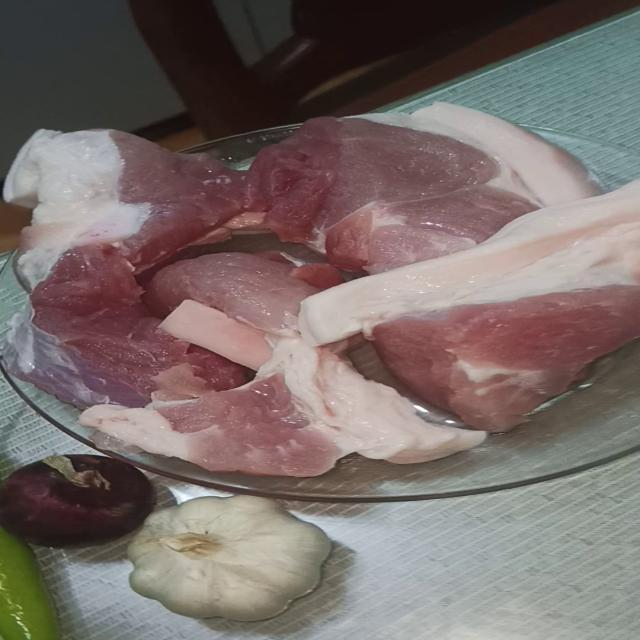chili_pepper: (0, 525, 59, 640)
garlic: (104, 488, 397, 622)
onion: (9, 453, 139, 560)
pork: (314, 217, 640, 400), (267, 92, 593, 248), (30, 364, 471, 479), (6, 113, 284, 262), (9, 277, 338, 350)
